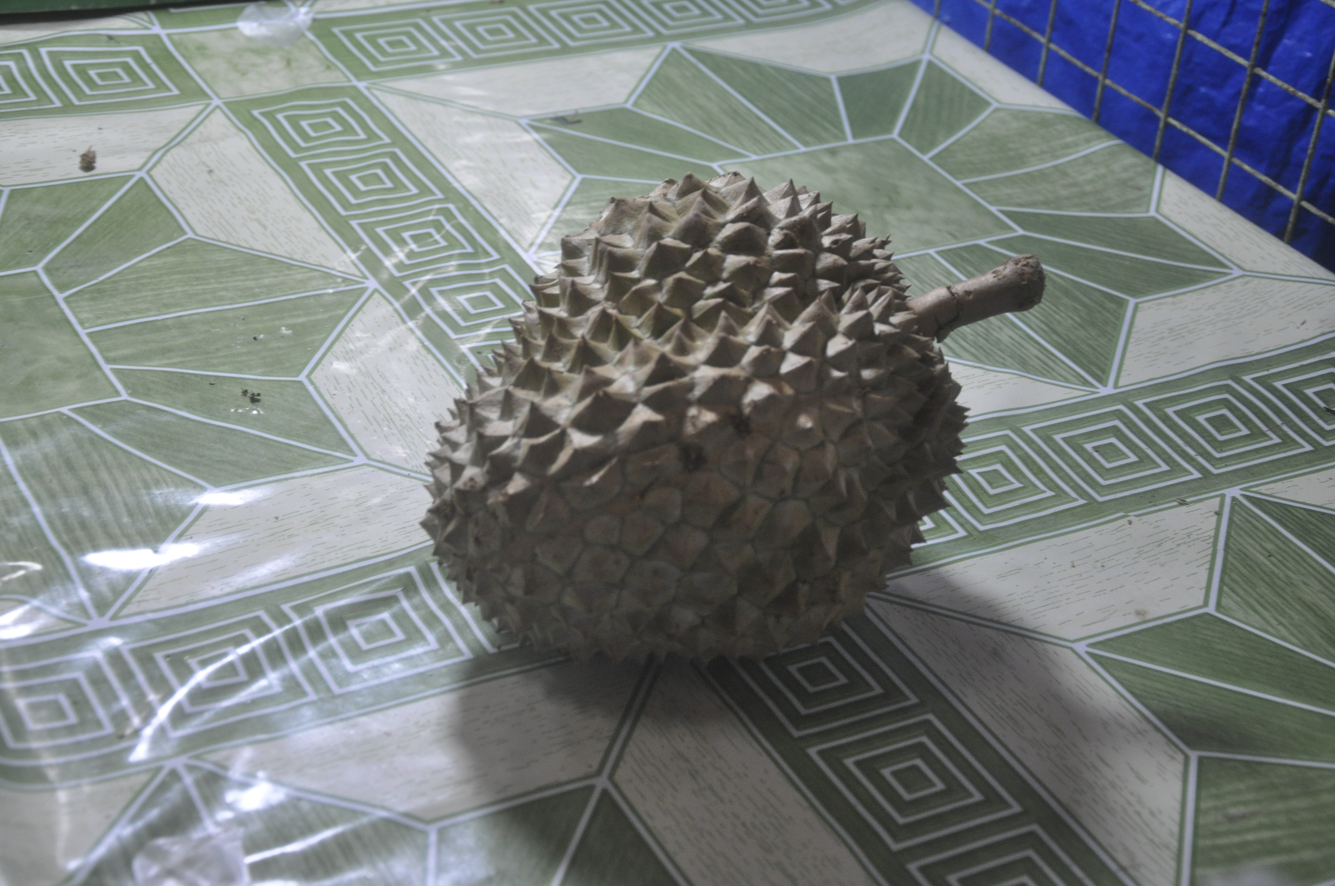mature: (423, 173, 1043, 661)
